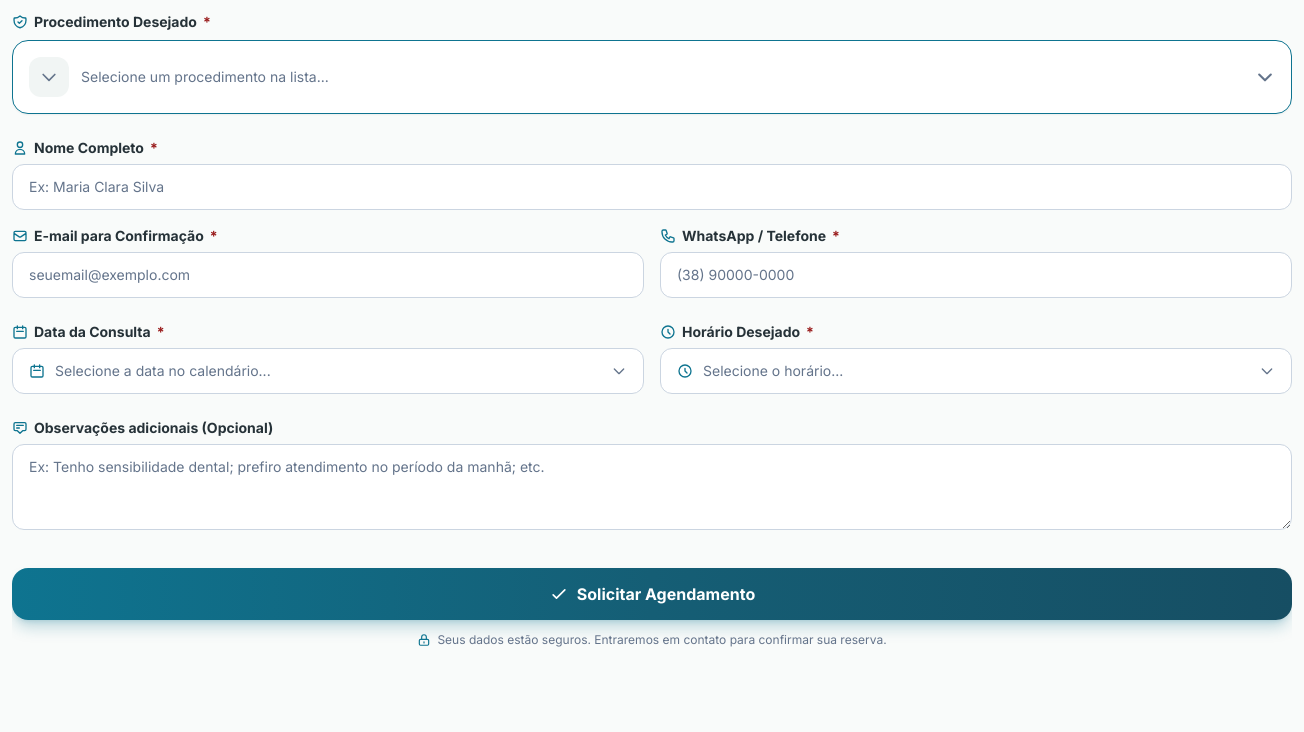
AppointmentForm › deve fechar o dropdown de procedimento ao pressionar Escape
Click the button named "Procedimento Desejado" at (49, 77), box [12, 40, 1292, 114]
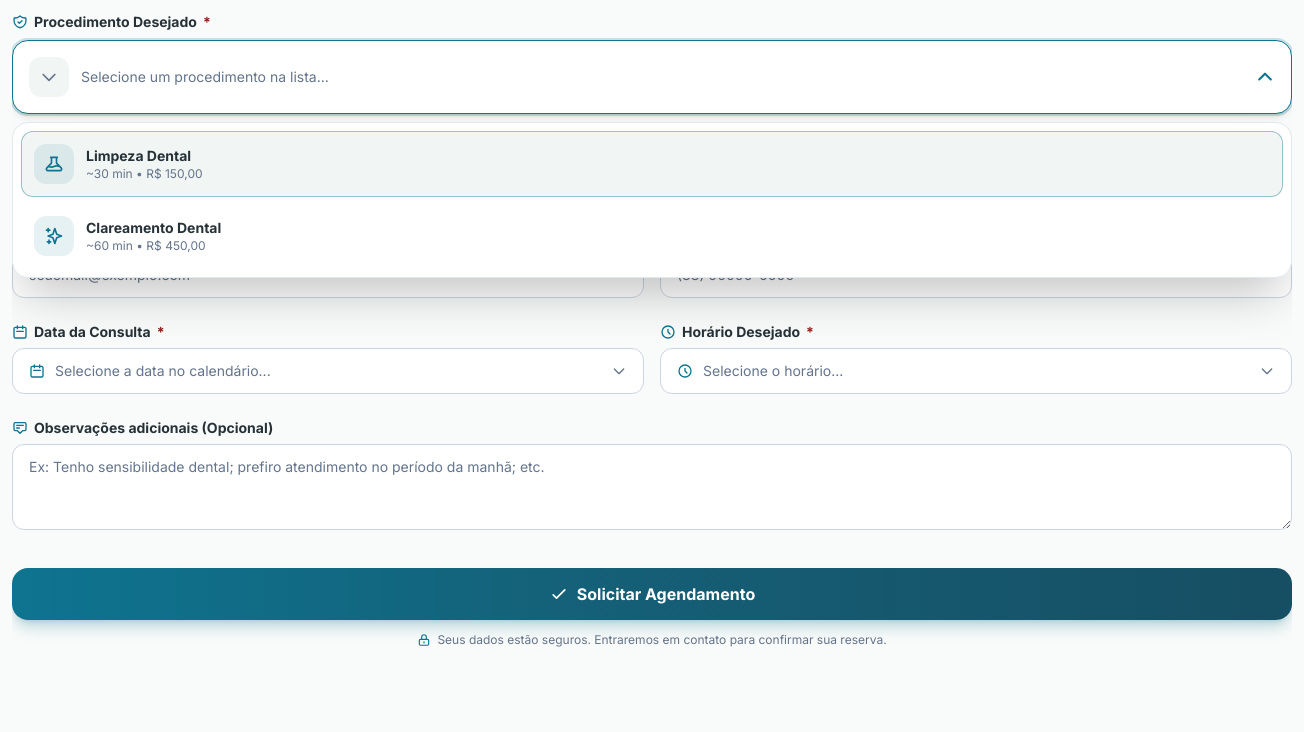
Check: the button named "Procedimento Desejado" is expanded, box [12, 40, 1292, 114]
Press Escape in the list, box [12, 122, 1292, 278]
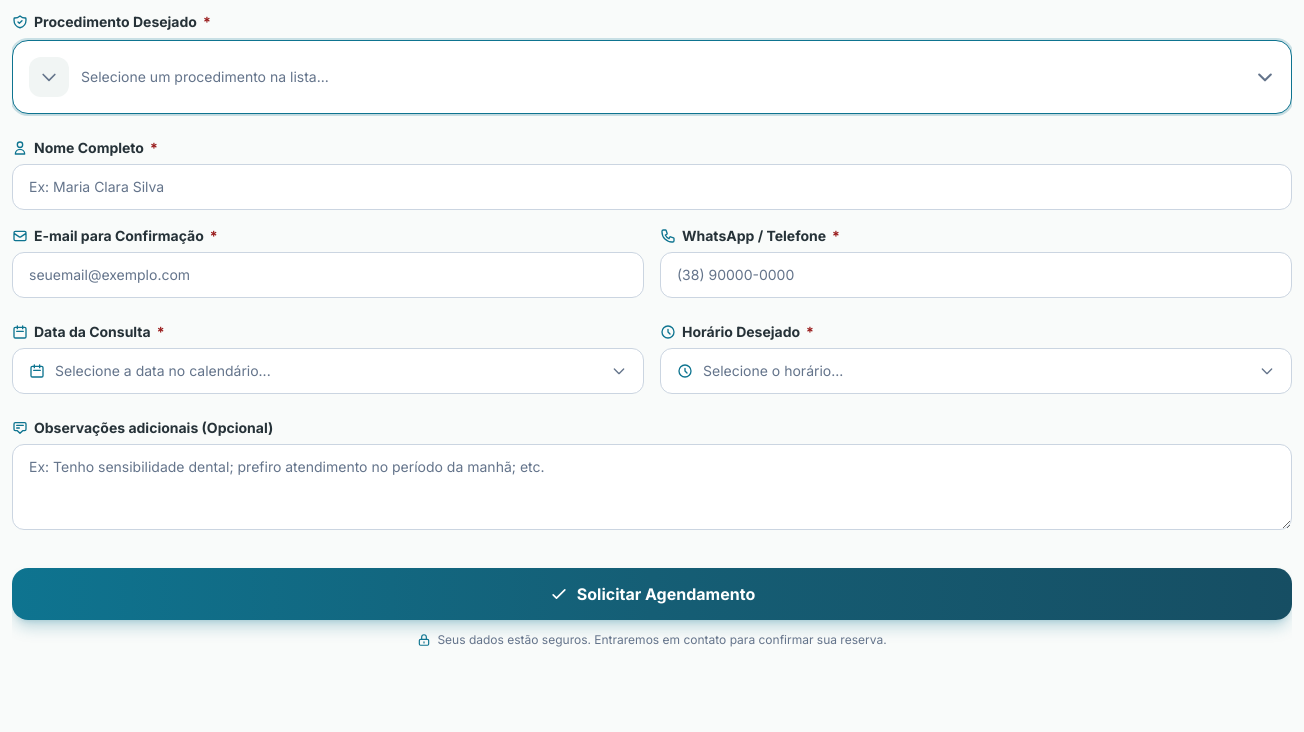
Check: the button named "Procedimento Desejado" is collapsed, box [12, 40, 1292, 114]
